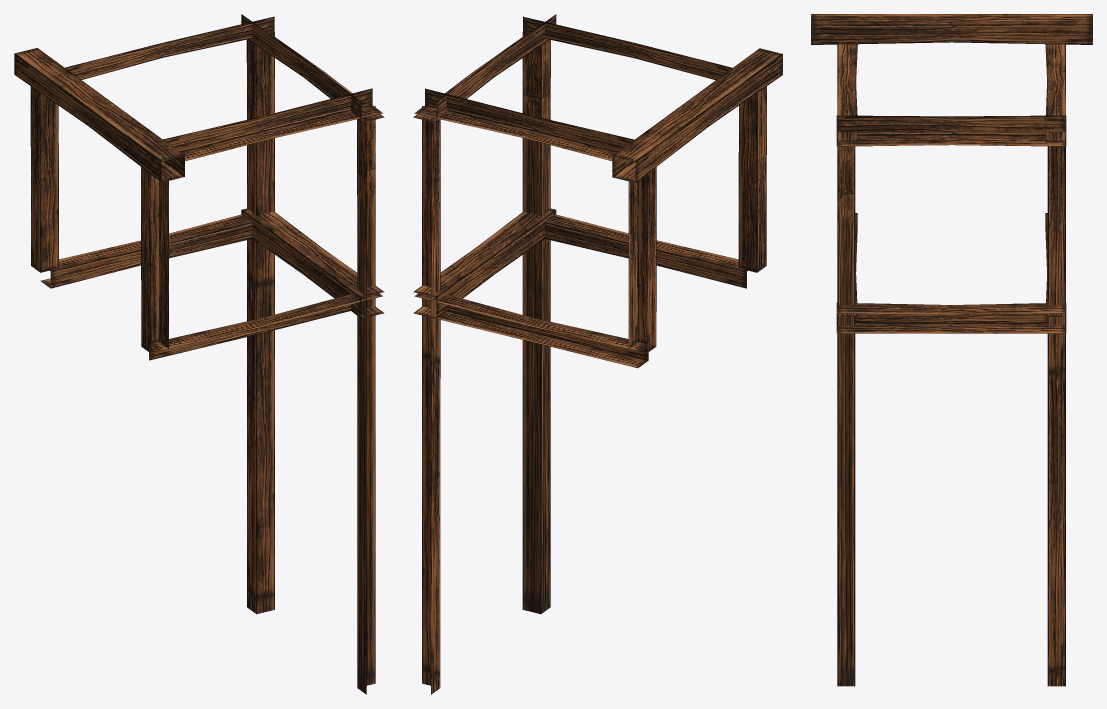
File: LAKETOWN_WAREHOUSE2_PS_WH2_BEAMS4475.fbx
The picture shows the model from 3 angles, left to right: view 1: azimuth 30°, elevation 25°; view 2: azimuth 150°, elevation 25°; view 3: azimuth 270°, elevation 25°; orthographic projection. The views are drawn at different scales.
Visible parts, largest first — view 1: LAKETOWN_WAREHOUSE2_PS_WH2_BEAMS4475; view 2: LAKETOWN_WAREHOUSE2_PS_WH2_BEAMS4475; view 3: LAKETOWN_WAREHOUSE2_PS_WH2_BEAMS4475.
Boxes of the visible parts, x1,y1,x2,y2 form: LAKETOWN_WAREHOUSE2_PS_WH2_BEAMS4475: [14, 14, 384, 694]; LAKETOWN_WAREHOUSE2_PS_WH2_BEAMS4475: [413, 14, 782, 694]; LAKETOWN_WAREHOUSE2_PS_WH2_BEAMS4475: [811, 14, 1092, 686].
Size of the model in its own units: 25181 by 60588 by 27133.
1 material, 1 textured.
